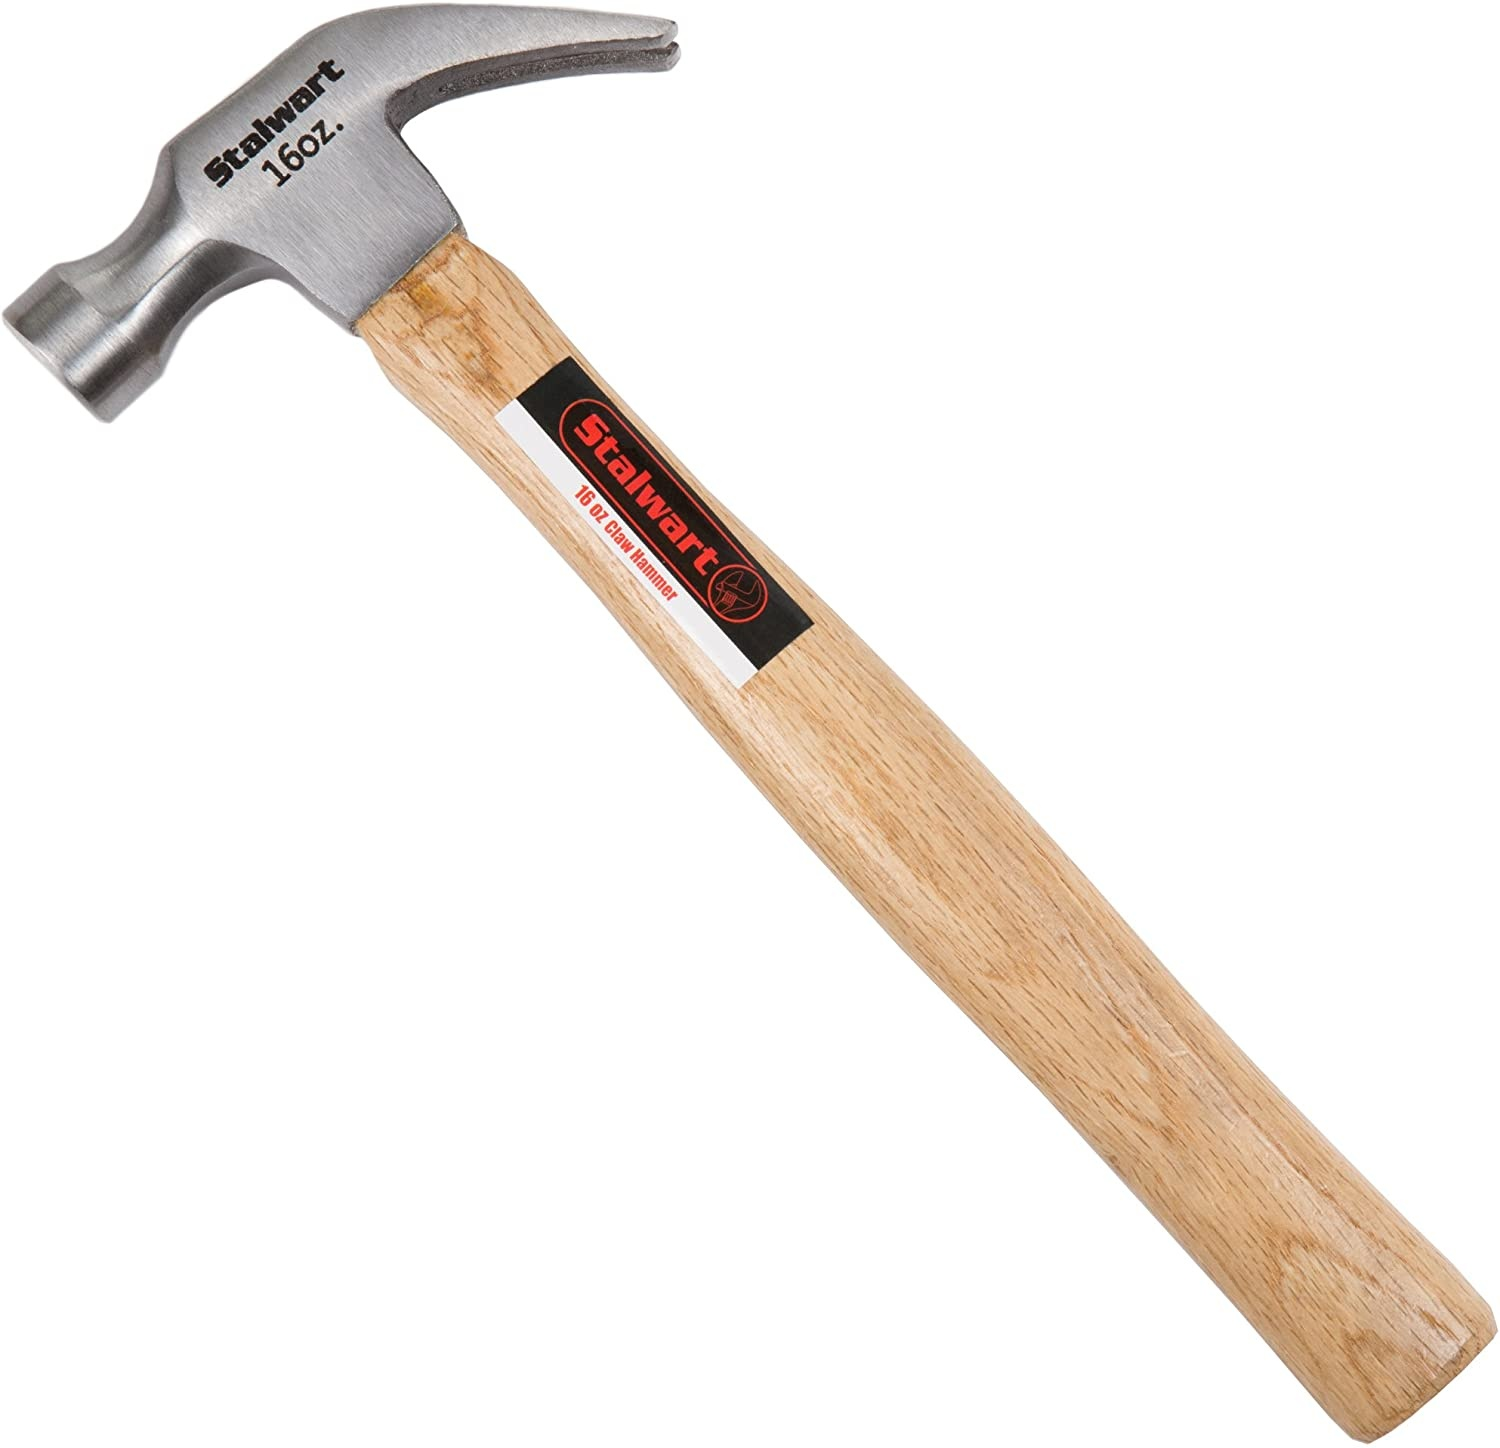hammer: (3, 1, 1499, 1448)
